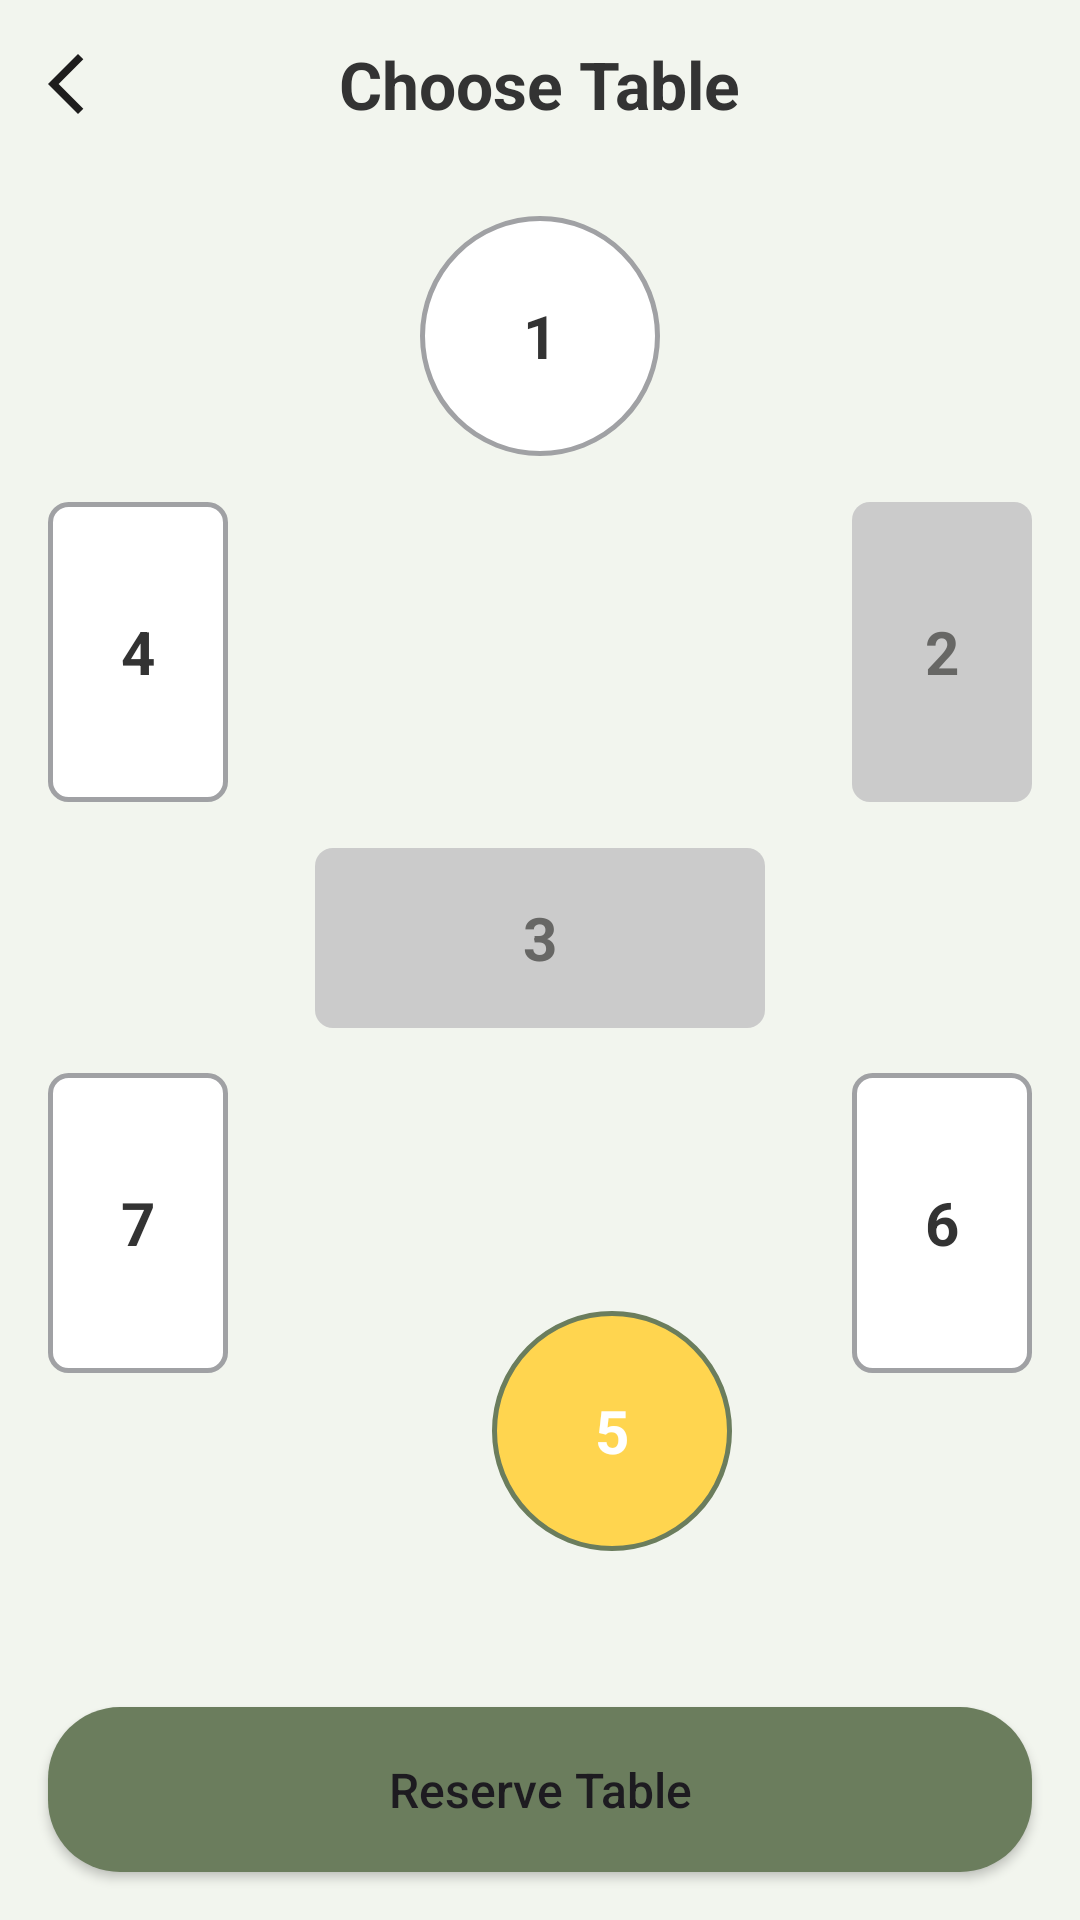

Where icons sit on this 1080px×1920px app screen, as bbox=[x1, y1, x2, y2]:
Back: bbox=[48, 54, 83, 114]
